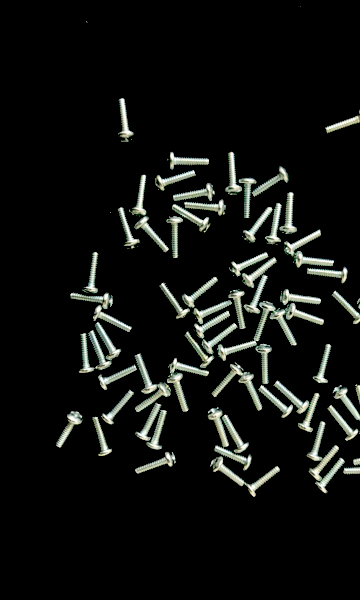shortscrew: (134, 216, 169, 254), (241, 206, 274, 245), (185, 331, 217, 370), (258, 386, 294, 420), (210, 362, 244, 398), (274, 382, 311, 415), (181, 277, 219, 309), (252, 167, 291, 198), (172, 205, 212, 235), (240, 258, 277, 290), (160, 282, 191, 320), (282, 230, 322, 259), (244, 467, 280, 499), (202, 323, 238, 355), (134, 402, 162, 443), (92, 305, 133, 333), (134, 382, 171, 413), (54, 411, 84, 449), (133, 353, 160, 395), (101, 391, 134, 425), (307, 446, 339, 481), (314, 459, 345, 494), (97, 365, 137, 392), (269, 309, 298, 346), (212, 445, 253, 471), (228, 252, 269, 278), (193, 311, 231, 339), (95, 322, 123, 360), (210, 456, 245, 486), (331, 290, 360, 326), (331, 385, 360, 421), (224, 414, 250, 454), (135, 450, 176, 475), (117, 208, 141, 250), (238, 371, 263, 411), (88, 331, 113, 371), (296, 393, 320, 434), (206, 407, 230, 448), (244, 276, 268, 316), (93, 415, 115, 458), (115, 97, 136, 142), (145, 411, 168, 452), (166, 356, 210, 377), (285, 303, 325, 326), (173, 182, 216, 203), (167, 372, 189, 413), (253, 301, 275, 341), (325, 110, 360, 135), (312, 344, 333, 385), (305, 422, 326, 462), (253, 344, 273, 385), (129, 176, 149, 217), (228, 288, 248, 329), (217, 341, 256, 362), (167, 152, 210, 171), (71, 291, 114, 310), (265, 203, 284, 246), (185, 199, 227, 218), (225, 152, 243, 196), (280, 192, 298, 236), (307, 267, 350, 285), (82, 252, 100, 295), (293, 251, 335, 269), (166, 217, 184, 259), (77, 334, 95, 375), (279, 289, 322, 306), (240, 178, 257, 220), (344, 462, 360, 479), (355, 384, 360, 426), (353, 447, 360, 466), (358, 294, 360, 324), (359, 425, 360, 448)
